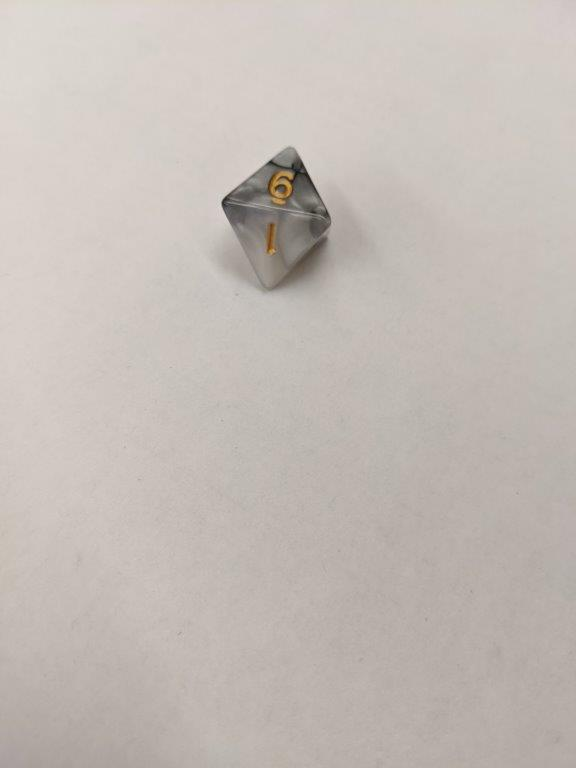d8-6: (220, 144, 332, 290)
